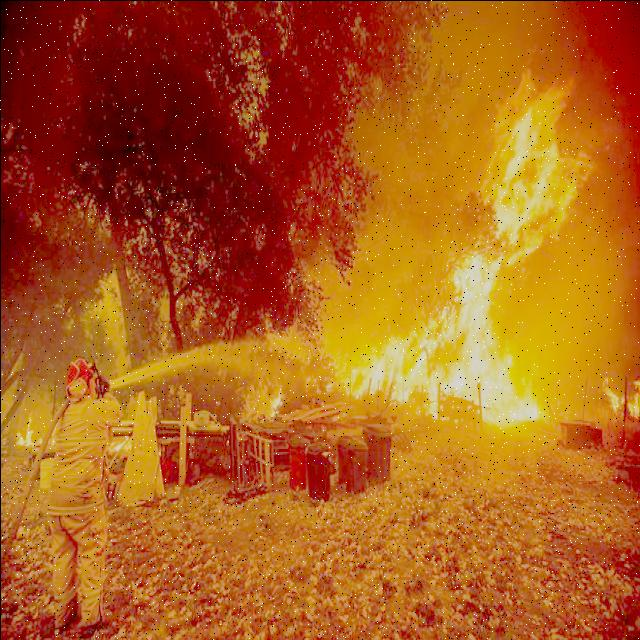api: (424, 254, 532, 434), (494, 77, 585, 249), (352, 326, 421, 414), (2, 418, 48, 455), (605, 380, 640, 420)
